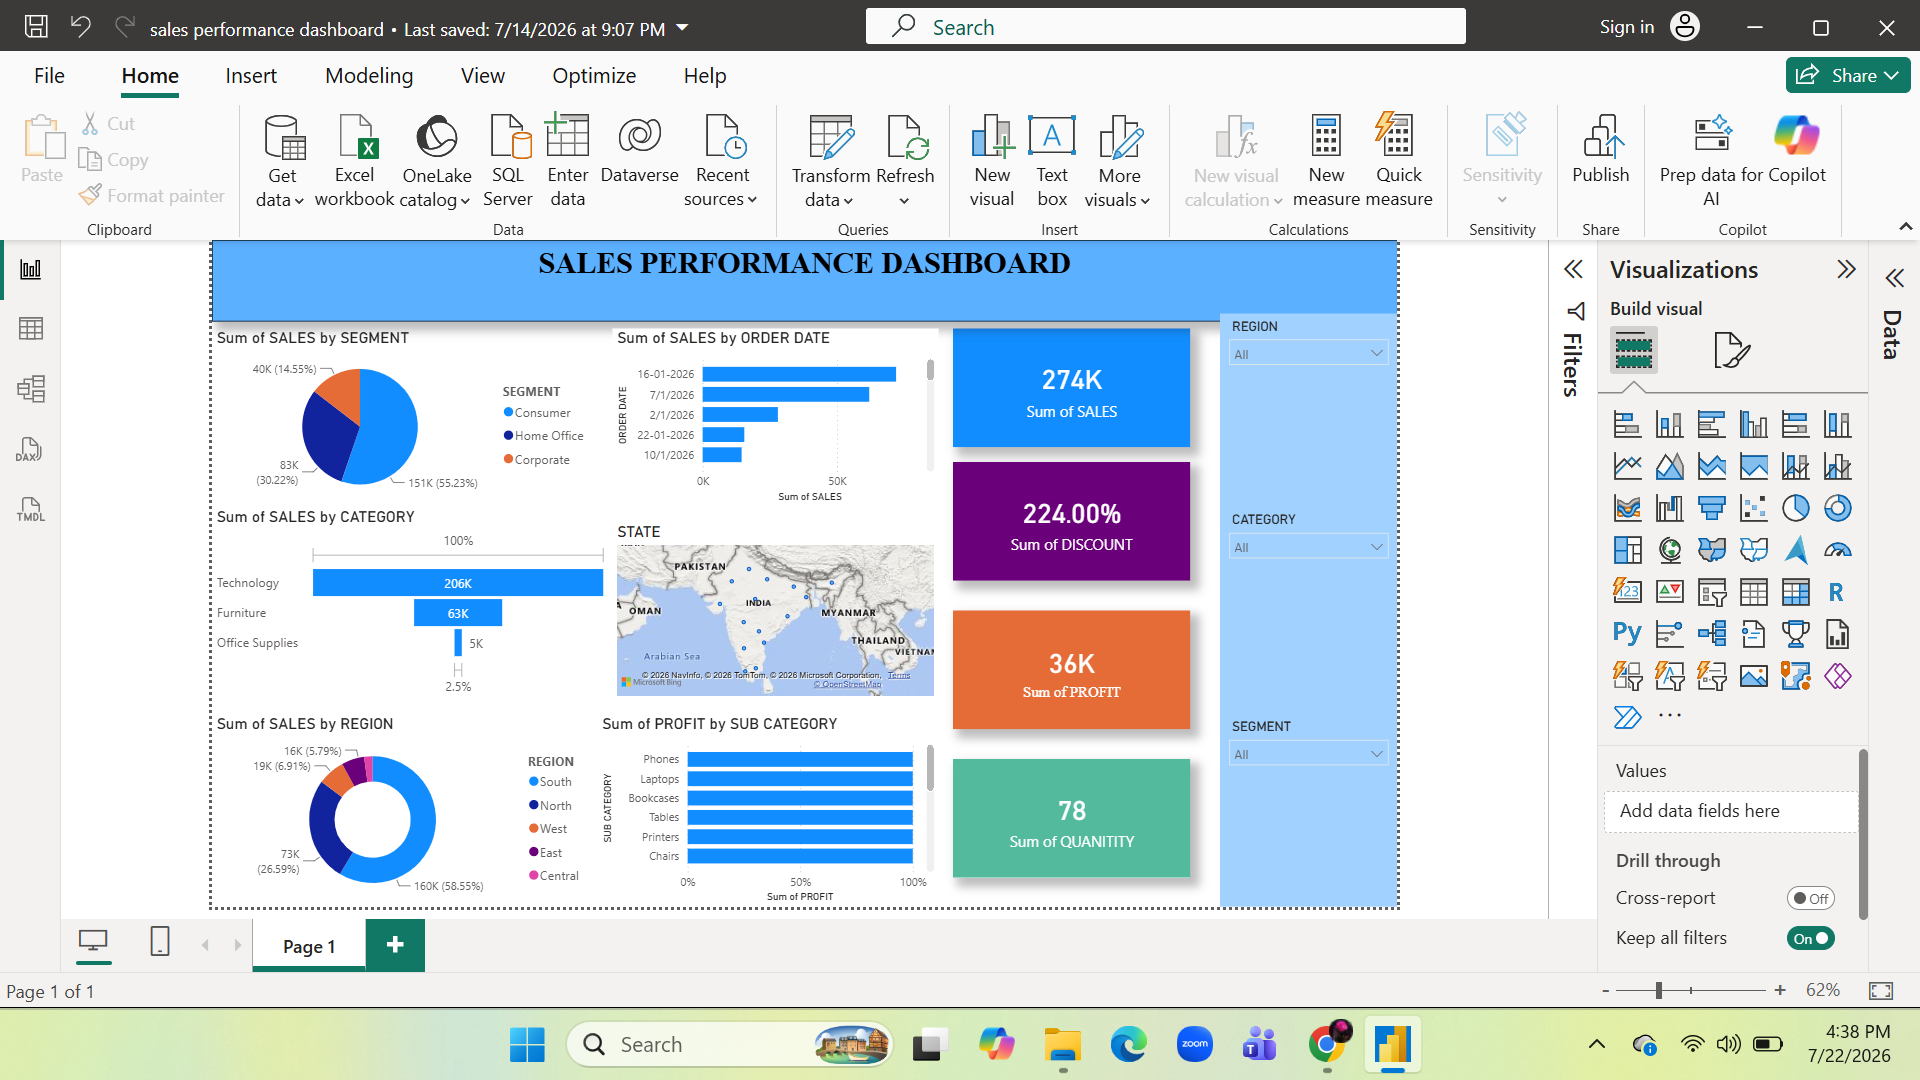

The dashboard page shown, as its layout file describes it:
{"tool":"powerbi","page":{"name":"Page 1","canvas":[1280,720],"ordinal":0},"visuals":[{"type":"donutChart","fields":{"Category":["Sheet1.REGION"],"Y":["Sum(Sheet1.SALES)"]},"box":[0,512,416,208],"z":0},{"type":"funnel","fields":{"Category":["Sheet1.CATEGORY"],"Y":["Sum(Sheet1.SALES)"]},"box":[0,288,432,208],"z":1000},{"type":"map","fields":{"Category":["Sheet1.STATE"]},"box":[432,304,352,192],"z":2000},{"type":"pieChart","fields":{"Category":["Sheet1.SEGMENT"],"Y":["Sum(Sheet1.SALES)"]},"box":[0,96,416,192],"z":3000},{"type":"card","fields":{"Values":["Sum(Sheet1.SALES)"]},"box":[800,96,256,128],"z":4000},{"type":"card","fields":{"Values":["Sum(Sheet1.PROFIT)"]},"box":[800,400,256,128],"z":5000},{"type":"card","fields":{"Values":["Sum(Sheet1.DISCOUNT)"]},"box":[800,240,256,128],"z":6000},{"type":"card","fields":{"Values":["Sum(Sheet1.QUANITITY)"]},"box":[800,560,256,128],"z":7000},{"type":"textbox","box":[0,0,1280,88],"z":8000},{"type":"clusteredBarChart","fields":{"Category":["Sheet1.ORDER DATE"],"Y":["Sum(Sheet1.SALES)"]},"box":[432,96,352,192],"z":9000},{"type":"hundredPercentStackedBarChart","fields":{"Category":["Sheet1.SUB CATEGORY"],"Y":["Sum(Sheet1.PROFIT)"]},"box":[416,512,368,208],"z":10000},{"type":"slicer","fields":{"Values":["Sheet1.REGION"]},"box":[1088,80,192,224],"z":11000},{"type":"slicer","fields":{"Values":["Sheet1.CATEGORY"]},"box":[1088,288,192,224],"z":12000},{"type":"slicer","fields":{"Values":["Sheet1.SEGMENT"]},"box":[1088,512,192,208],"z":12001}]}

Visuals, with their boxes on the page's 1280x720 design canvas (x1, y1, x2, y2). These are canvas units, not pixel positions in the 1920x1080 screenshot, which may show the page scaled, cropped or inside an application window:
donutChart - Sheet1.REGION x Sum(Sheet1.SALES): BBox(0, 512, 416, 720)
funnel - Sheet1.CATEGORY x Sum(Sheet1.SALES): BBox(0, 288, 432, 496)
map - Sheet1.STATE: BBox(432, 304, 784, 496)
pieChart - Sheet1.SEGMENT x Sum(Sheet1.SALES): BBox(0, 96, 416, 288)
card - Sum(Sheet1.SALES): BBox(800, 96, 1056, 224)
card - Sum(Sheet1.PROFIT): BBox(800, 400, 1056, 528)
card - Sum(Sheet1.DISCOUNT): BBox(800, 240, 1056, 368)
card - Sum(Sheet1.QUANITITY): BBox(800, 560, 1056, 688)
textbox: BBox(0, 0, 1280, 88)
clusteredBarChart - Sheet1.ORDER DATE x Sum(Sheet1.SALES): BBox(432, 96, 784, 288)
hundredPercentStackedBarChart - Sheet1.SUB CATEGORY x Sum(Sheet1.PROFIT): BBox(416, 512, 784, 720)
slicer - Sheet1.REGION: BBox(1088, 80, 1280, 304)
slicer - Sheet1.CATEGORY: BBox(1088, 288, 1280, 512)
slicer - Sheet1.SEGMENT: BBox(1088, 512, 1280, 720)
